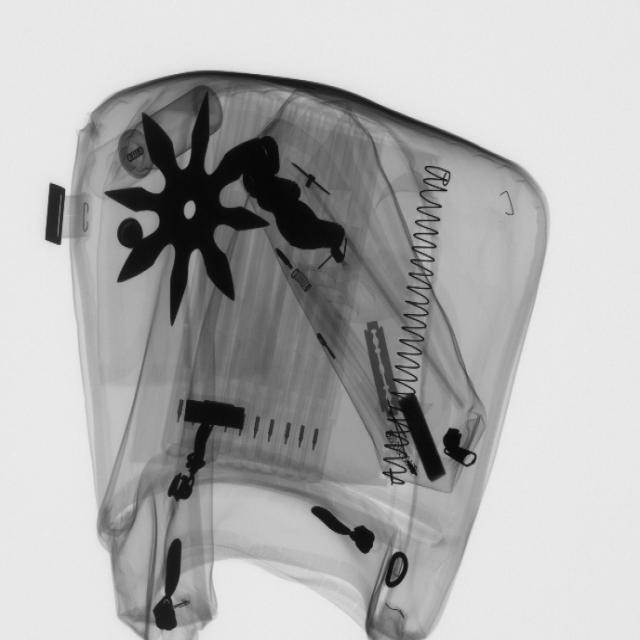BLADE: (361, 319, 404, 425)
SHURIKEN: (102, 92, 274, 330)
